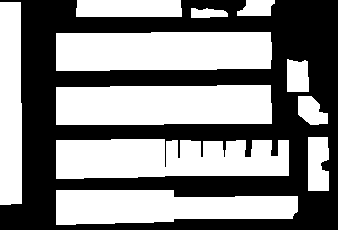parkingspot: (56, 103, 271, 124), (56, 85, 270, 106), (56, 32, 271, 52), (56, 50, 271, 70), (0, 2, 21, 204), (172, 196, 297, 218), (165, 156, 288, 175), (56, 139, 164, 160), (56, 157, 164, 178), (56, 205, 173, 224), (56, 190, 173, 208), (76, 0, 181, 16), (308, 137, 328, 190), (298, 96, 327, 124), (287, 59, 308, 91), (237, 0, 274, 15), (225, 140, 245, 159), (180, 140, 200, 159), (251, 140, 271, 158), (203, 141, 223, 159), (191, 8, 227, 17), (166, 140, 177, 159), (278, 140, 288, 158)
